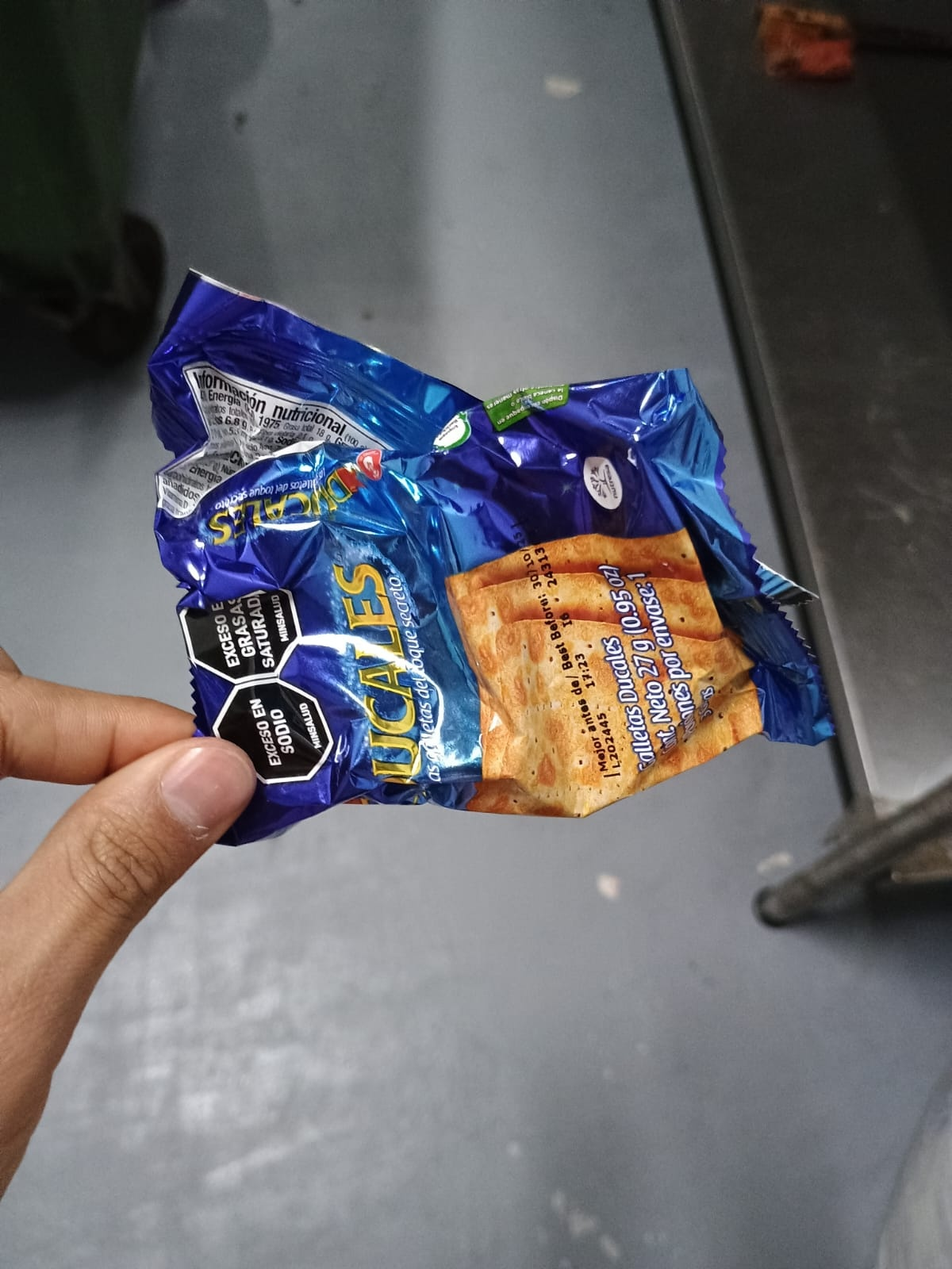Ordinario: (149, 269, 836, 844)
